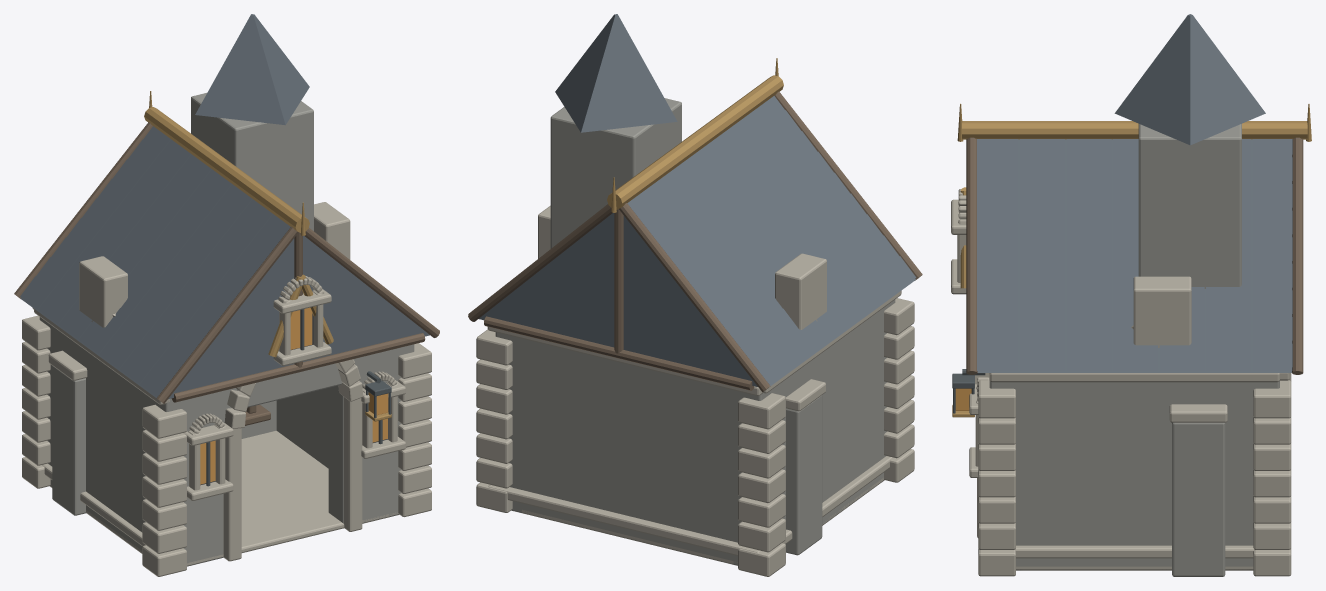
Rendered from service_3.glb.
The picture shows the model from 3 angles, left to right: view 1: azimuth 30°, elevation 25°; view 2: azimuth 150°, elevation 25°; view 3: azimuth 270°, elevation 25°; orthographic projection. The views are drawn at different scales.
Visible parts, largest first — view 1: Roof.003, Body.003, Front.003; view 2: Roof.003, Body.003, Front.003; view 3: Roof.003, Body.003, Front.003.
Part boxes in pixels (x1=…): Roof.003: x1=14, y1=14, x2=439, y2=403; Body.003: x1=22, y1=202, x2=414, y2=566; Front.003: x1=142, y1=343, x2=431, y2=576; Roof.003: x1=468, y1=14, x2=922, y2=392; Body.003: x1=476, y1=205, x2=901, y2=576; Front.003: x1=880, y1=298, x2=914, y2=482; Roof.003: x1=951, y1=14, x2=1311, y2=374; Body.003: x1=989, y1=276, x2=1291, y2=576; Front.003: x1=952, y1=369, x2=1022, y2=576.
Size of the model in its own units: 2.94 by 4.5 by 2.86.
